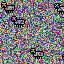sheep: (11, 15, 25, 28), (1, 2, 15, 13), (30, 48, 44, 59), (54, 3, 64, 14)
